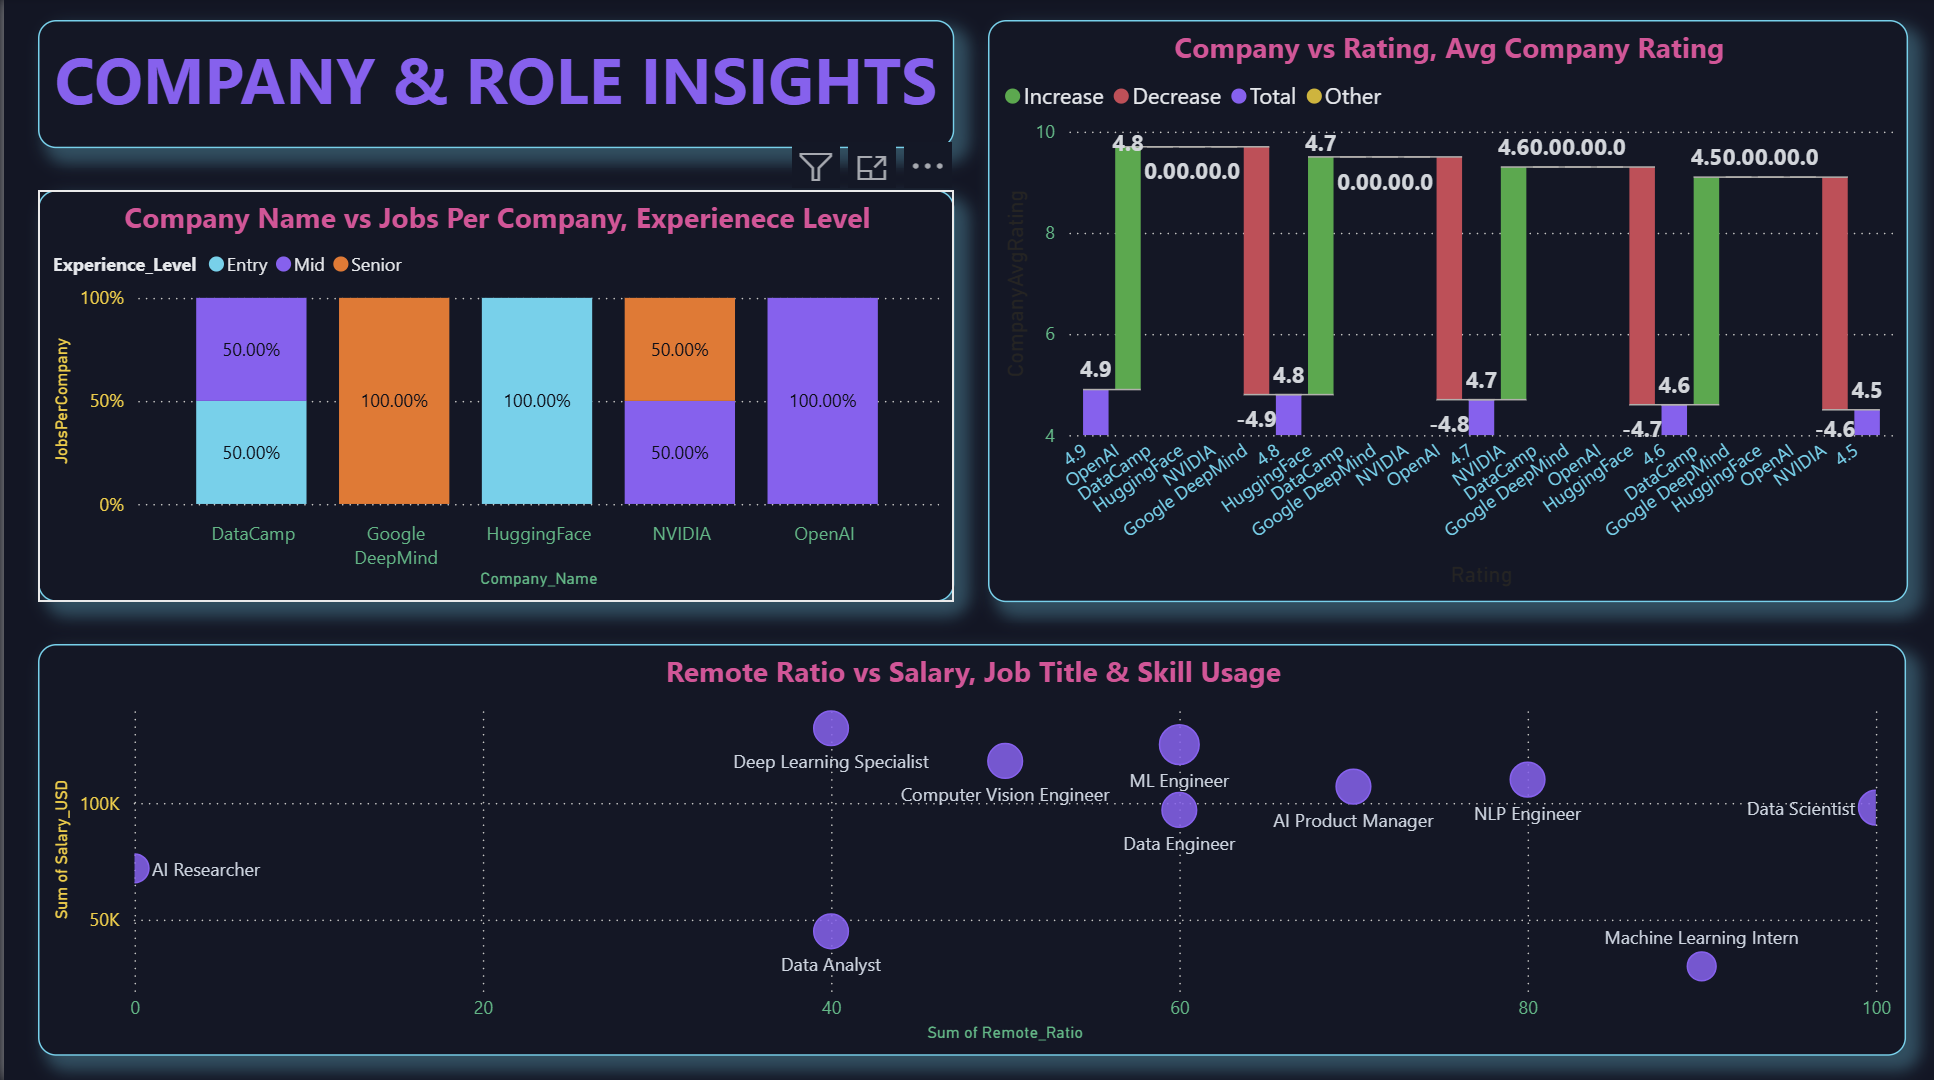

This screenshot's page, from the dashboard's own definition file:
{"tool":"powerbi","page":{"name":"Company And Role Insights","canvas":[1280,720],"ordinal":2},"visuals":[{"type":"textbox","box":[22.5,15.9,607.3,84.9],"z":0},{"type":"hundredPercentStackedColumnChart","title":"Company Name vs Jobs Per Company, Experienece Level","fields":{"Category":["Dim_Companies.Company_Name"],"Y":["Dim_Companies.JobsPerCompany"],"Series":["Fact_Jobs.Experience_Level"]},"box":[22.5,128.6,607.3,273.1],"z":1000},{"type":"waterfallChart","title":"Company vs Rating, Avg Company Rating","fields":{"Category":["Dim_Companies.Rating"],"Breakdown":["Dim_Companies.Company_Name"],"Y":["Dim_Companies.CompanyAvgRating"]},"box":[652.4,15.9,609.9,385.9],"z":2000},{"type":"scatterChart","title":"Remote Ratio vs Salary, Job Title & Skill Usage","fields":{"Category":["Fact_Jobs.Job_Title"],"X":["Sum(Fact_Jobs.Remote_Ratio)"],"Y":["Sum(Fact_Jobs.Salary_USD)"],"Size":["Dim_Skills.SkillUsageCount"]},"box":[22.5,429.6,1238.5,273.1],"z":3000}]}

Visuals, with their boxes in screenshot pixels (x1, y1, x2, y2), scaled from the page's 1280x720 canvas onto the 1934x1080 screenshot:
textbox: bbox=(34, 24, 952, 151)
"Company Name vs Jobs Per Company, Experienece Level" hundredPercentStackedColumnChart: bbox=(34, 193, 952, 603)
"Company vs Rating, Avg Company Rating" waterfallChart: bbox=(986, 24, 1907, 603)
"Remote Ratio vs Salary, Job Title & Skill Usage" scatterChart: bbox=(34, 644, 1905, 1054)
